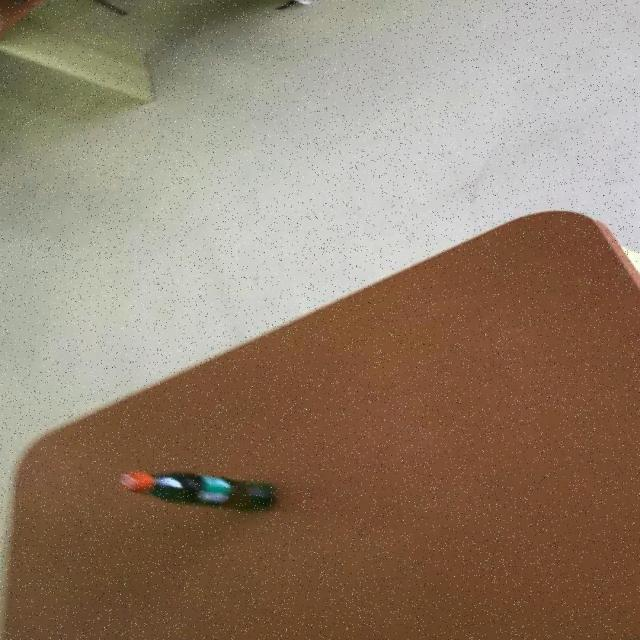Guarana: (119, 469, 281, 511)
